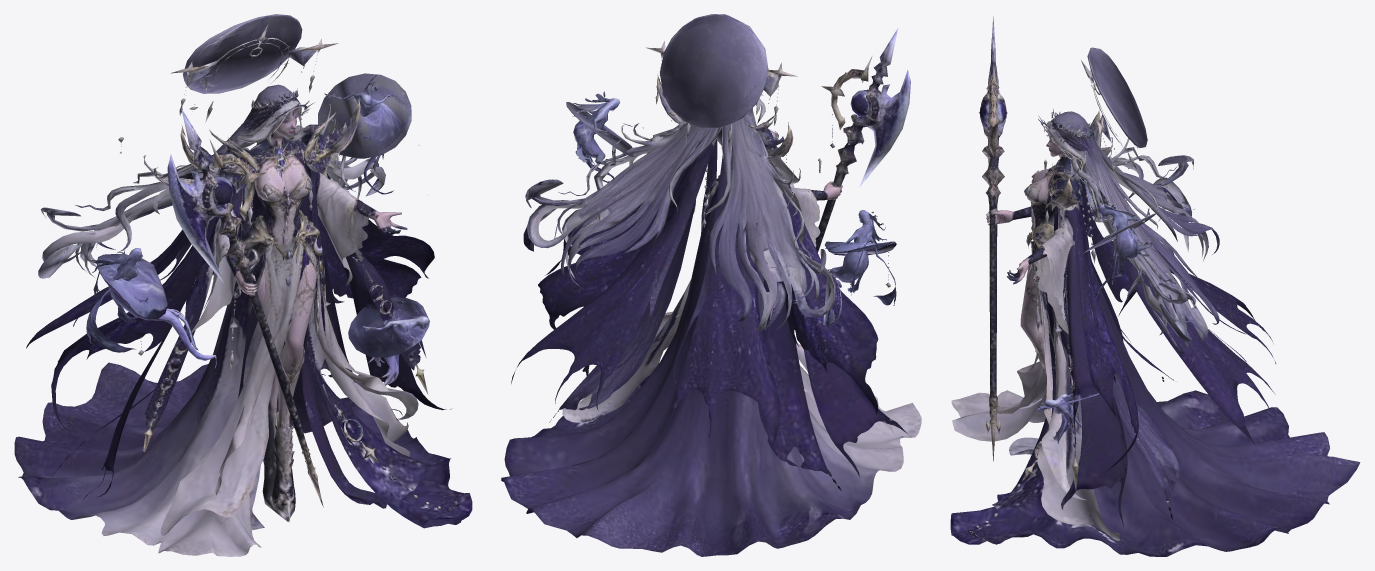
Rendered from nyxara_ligera_juego.glb.
The picture shows the model from 3 angles, left to right: view 1: azimuth 30°, elevation 25°; view 2: azimuth 150°, elevation 25°; view 3: azimuth 270°, elevation 25°; orthographic projection. The views are drawn at different scales.
Parts seen in each view (by area): view 1: tripo_node_fd907a37-59e1-47f5-989d-9c6ea0cdeb47; view 2: tripo_node_fd907a37-59e1-47f5-989d-9c6ea0cdeb47; view 3: tripo_node_fd907a37-59e1-47f5-989d-9c6ea0cdeb47.
Part boxes in pixels (bbox=[...]): tripo_node_fd907a37-59e1-47f5-989d-9c6ea0cdeb47: bbox=[14, 14, 472, 556]; tripo_node_fd907a37-59e1-47f5-989d-9c6ea0cdeb47: bbox=[501, 14, 921, 556]; tripo_node_fd907a37-59e1-47f5-989d-9c6ea0cdeb47: bbox=[950, 16, 1360, 556].
Bounding box in the file's own units: 0.7996 × 1 × 0.8604.
Materials: 1 (1 with a texture image).
